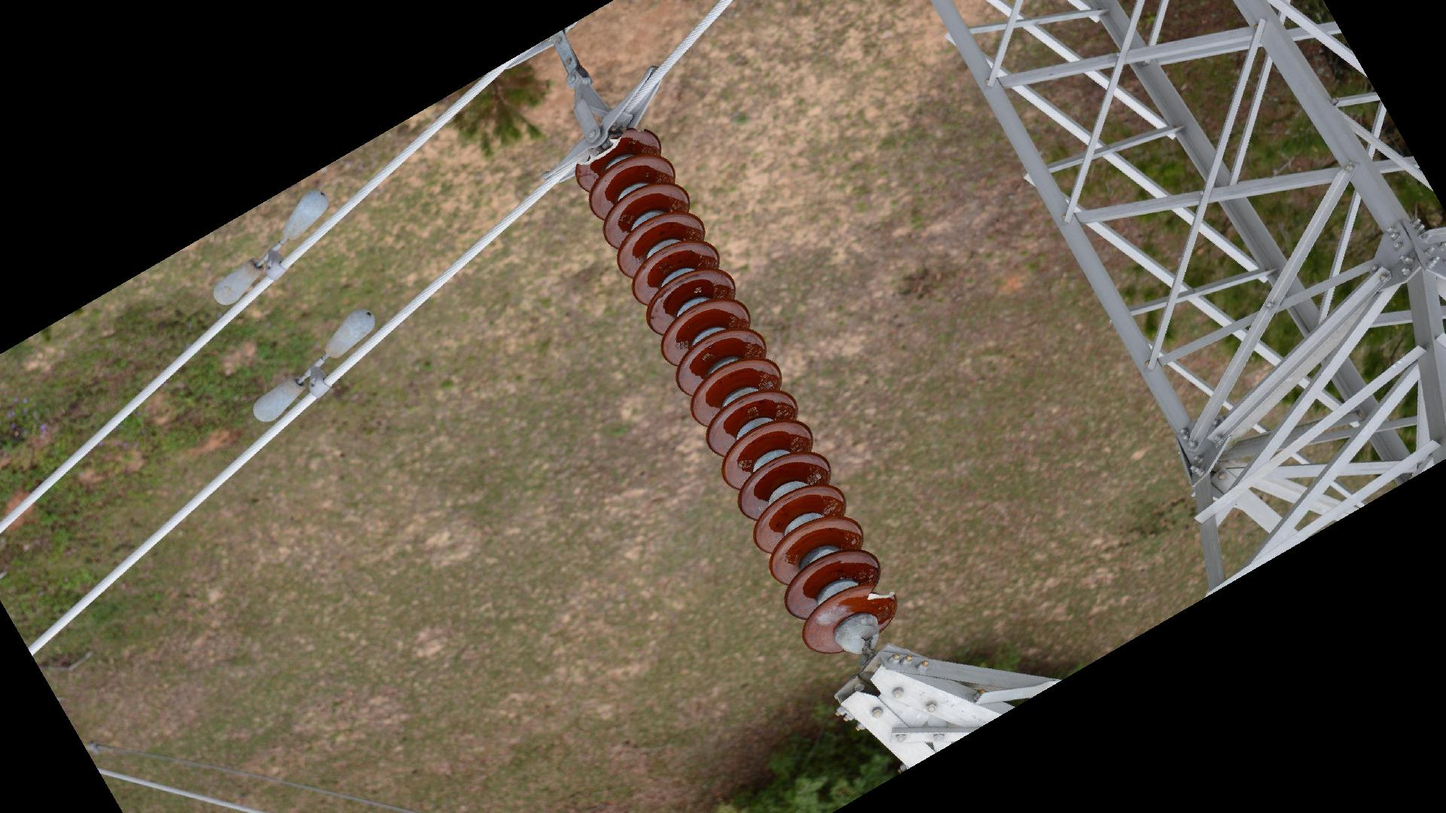insulator: (565, 120, 901, 658)
insulator_breakage: (572, 131, 630, 169), (862, 579, 899, 605)
